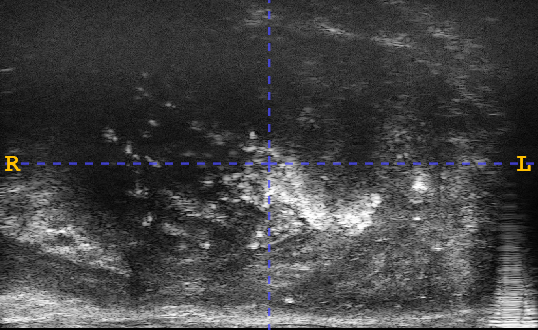calcifications: (114, 104, 379, 233), (173, 115, 348, 292), (101, 38, 236, 226), (337, 96, 454, 247)
